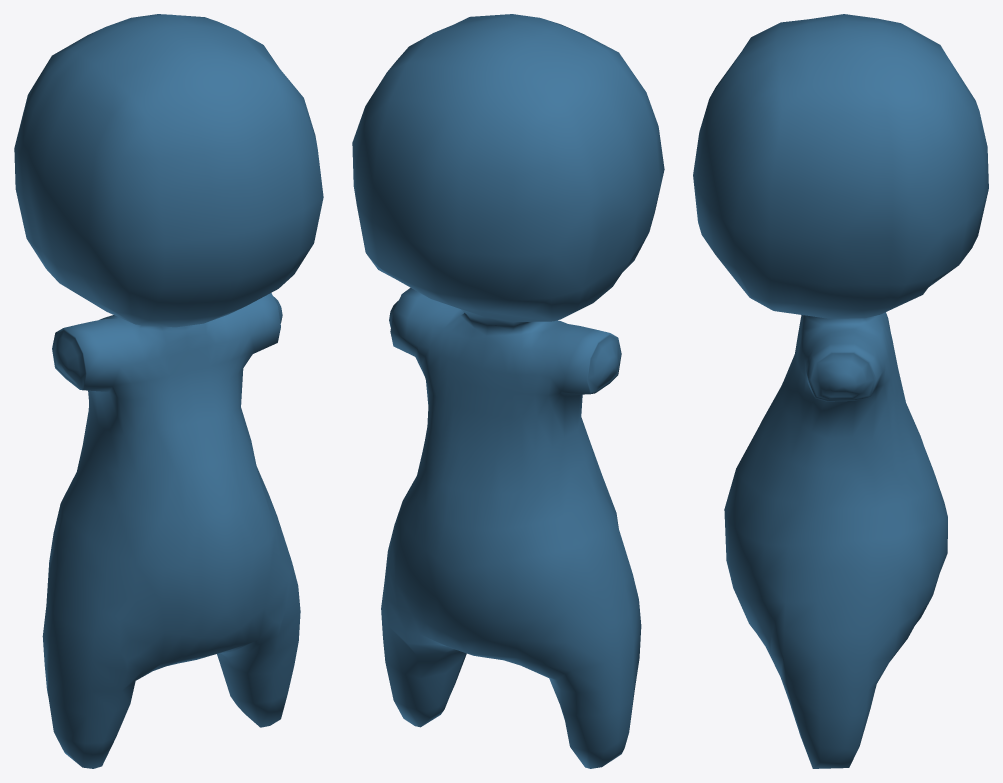
File: Puppe_07_SM.FBX
3 views of the same model, side by side, from view 1: azimuth 30°, elevation 25°; view 2: azimuth 150°, elevation 25°; view 3: azimuth 270°, elevation 25° (orthographic). The views are drawn at different scales.
Visible parts, largest first — view 1: Voodoo 07; view 2: Voodoo 07; view 3: Voodoo 07.
Part boxes in pixels (box(x1,y1,x2,y2)): Voodoo 07: box(14, 14, 323, 768); Voodoo 07: box(352, 14, 664, 768); Voodoo 07: box(693, 14, 988, 768).
Size of the model in its own units: 14.87 by 39.88 by 15.38.
